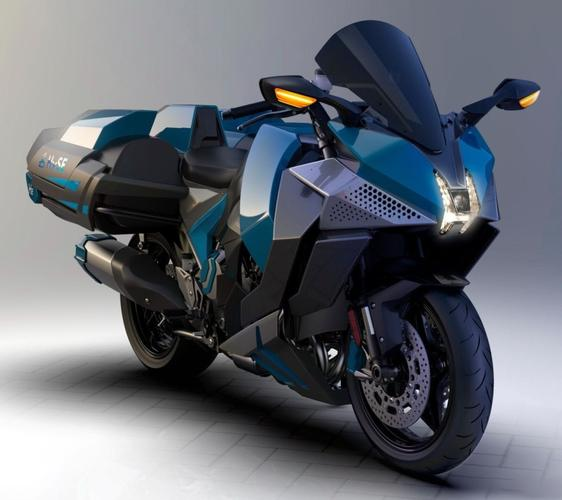摩托车: (13, 16, 547, 483)
